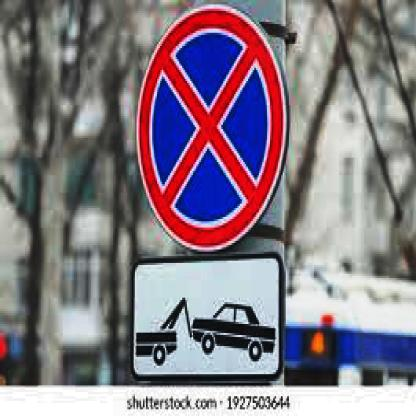No stopping: (144, 10, 286, 254)
